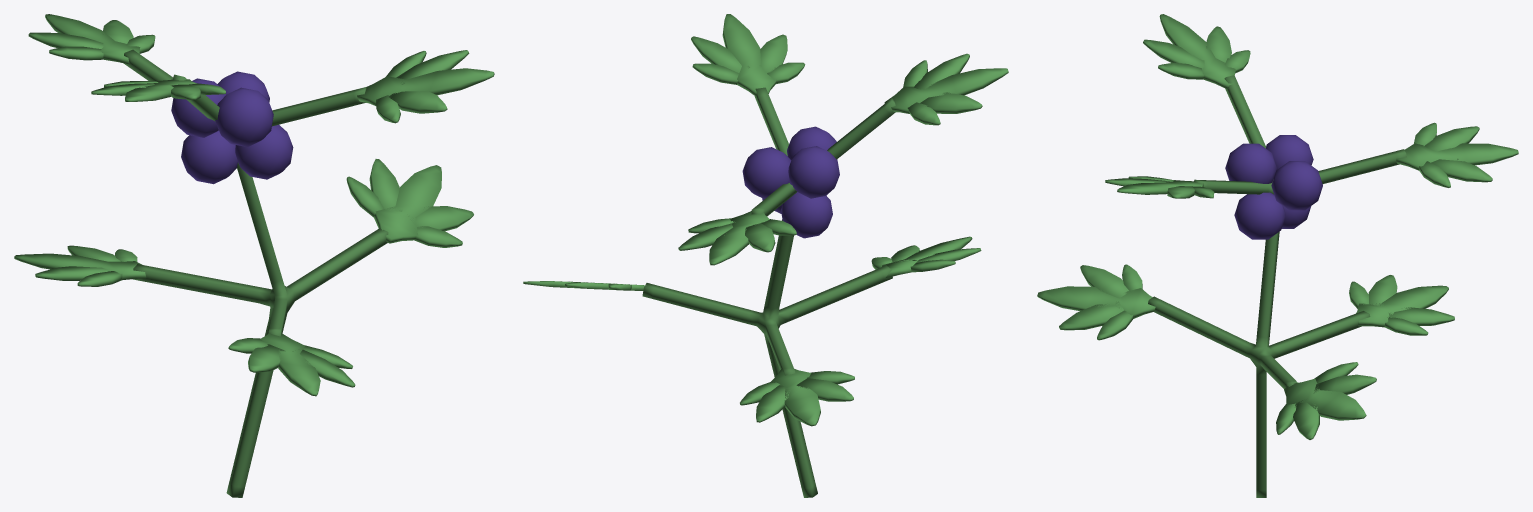
File: zaza.fbx
3 renders of one model, left to right at view 1: azimuth 30°, elevation 25°; view 2: azimuth 150°, elevation 25°; view 3: azimuth 270°, elevation 25°, orthographic. The views are drawn at different scales.
Visible parts, largest first — view 1: Leaf.001, Cube, Icosphere; view 2: Leaf.001, Cube, Icosphere; view 3: Leaf.001, Cube, Icosphere.
Part boxes in pixels (x1,y1,x2,y2): Leaf.001: (14,14,494,396); Cube: (124,49,388,497); Icosphere: (171,71,293,184); Leaf.001: (523,14,1008,426); Cube: (642,87,895,497); Icosphere: (742,126,839,238); Leaf.001: (1037,14,1518,439); Cube: (1148,75,1406,497); Icosphere: (1225,135,1322,239).
Bounding box in the file's own units: 492 × 519 × 548.
